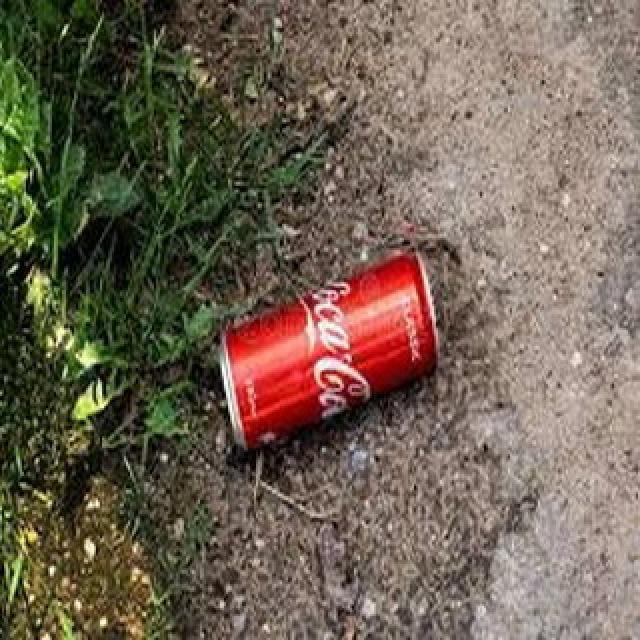can: (224, 249, 442, 451)
